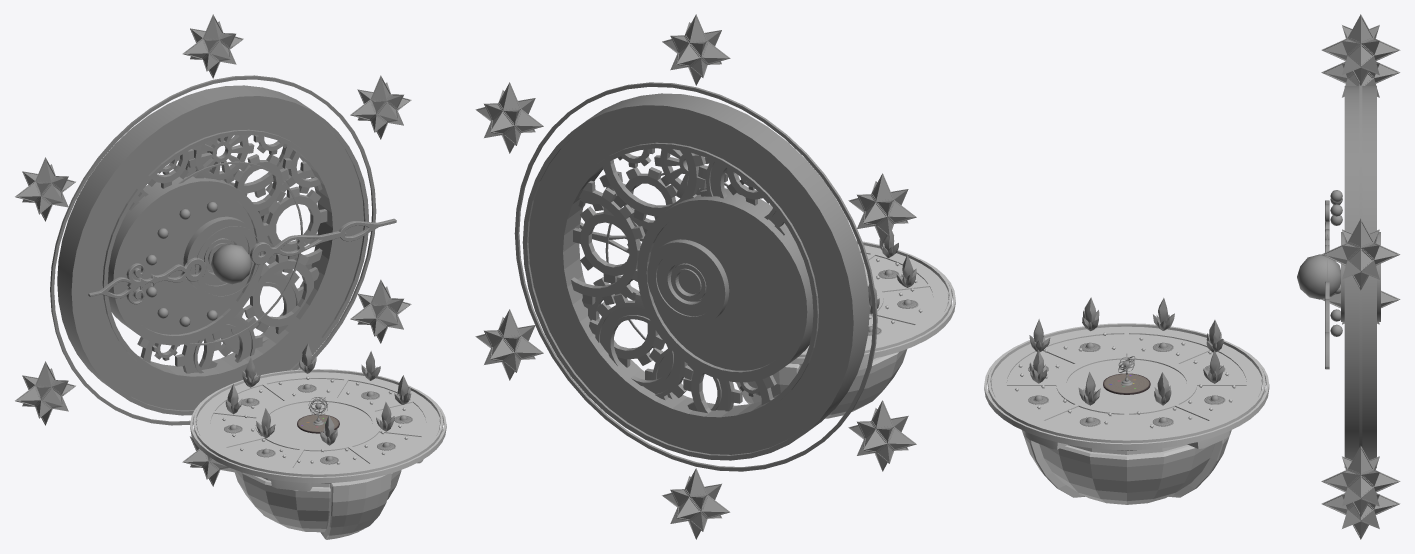
Rendered from 3rdFloorModel.fbx.
3 views of the same model, side by side, from view 1: azimuth 30°, elevation 25°; view 2: azimuth 150°, elevation 25°; view 3: azimuth 270°, elevation 25° (orthographic). The views are drawn at different scales.
Visible parts, largest first — view 1: Cylinder006, Cylinder003 (×2), Object019, Cylinder013, Object042, Gear09, Gear05, Object043, Gear01, Star_low002, Star_low003, Star_low004 (+14 smaller); view 2: Cylinder006, Cylinder013, Cylinder003, Gear15, Object019, Gear14, Star_low, Star_low004, Star_low001, Star_low002, Star_low003, Star_low005 (+10 smaller); view 3: Cylinder003 (×2), Cylinder006, Object019, Object042, Object043, Star_low003, Star_low004, Star_low002, Object093, Star_low005, Cylinder013, Star_low001.
Boxes of the visible parts, box(x1,y1,x2,y2) form: Cylinder006: box(57, 85, 368, 415); Cylinder003 (×2): box(196, 372, 439, 473); Object019: box(233, 459, 423, 539); Cylinder013: box(50, 75, 376, 425); Object042: box(193, 369, 443, 483); Gear09: box(244, 253, 319, 334); Gear05: box(187, 135, 254, 183); Object043: box(190, 386, 446, 482); Gear01: box(263, 186, 327, 259); Star_low002: box(182, 14, 243, 78); Star_low003: box(350, 75, 411, 139); Star_low004: box(350, 279, 411, 343); Cylinder006: box(522, 93, 869, 460); Cylinder013: box(514, 82, 877, 471); Cylinder003: box(802, 244, 948, 353); Gear15: box(589, 292, 693, 400); Object019: box(735, 349, 907, 418); Gear14: box(571, 180, 645, 305); Star_low: box(848, 400, 916, 471); Star_low004: box(475, 309, 543, 380); Star_low001: box(848, 173, 916, 244); Star_low002: box(662, 14, 730, 85); Star_low003: box(475, 82, 543, 153); Star_low005: box(662, 468, 730, 539); Cylinder003 (×2): box(991, 326, 1261, 439); Cylinder006: box(1341, 86, 1380, 467); Object019: box(1022, 430, 1231, 504); Object042: box(988, 323, 1265, 450); Object043: box(984, 342, 1269, 449); Star_low003: box(1321, 218, 1400, 290); Star_low004: box(1321, 445, 1400, 517); Star_low002: box(1321, 14, 1400, 85); Object093: box(1297, 254, 1340, 299); Star_low005: box(1321, 492, 1400, 539); Cylinder013: box(1327, 84, 1362, 447); Star_low001: box(1321, 61, 1400, 97).
Bounding box in the file's own units: 2140 × 2434 × 1746.
